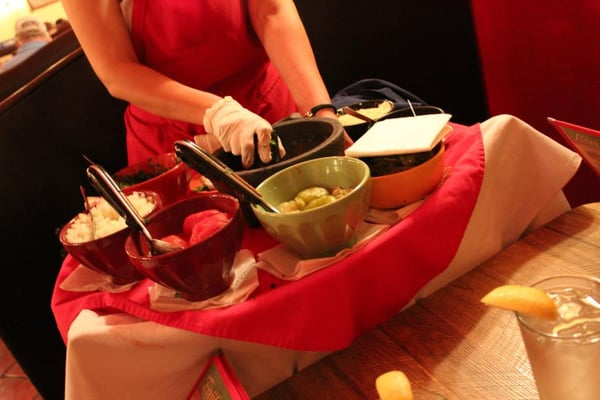salad: (174, 137, 281, 214)
sandwich: (173, 137, 281, 214)
sushi: (122, 190, 249, 304), (238, 155, 372, 259), (344, 113, 450, 210), (346, 141, 448, 210)
